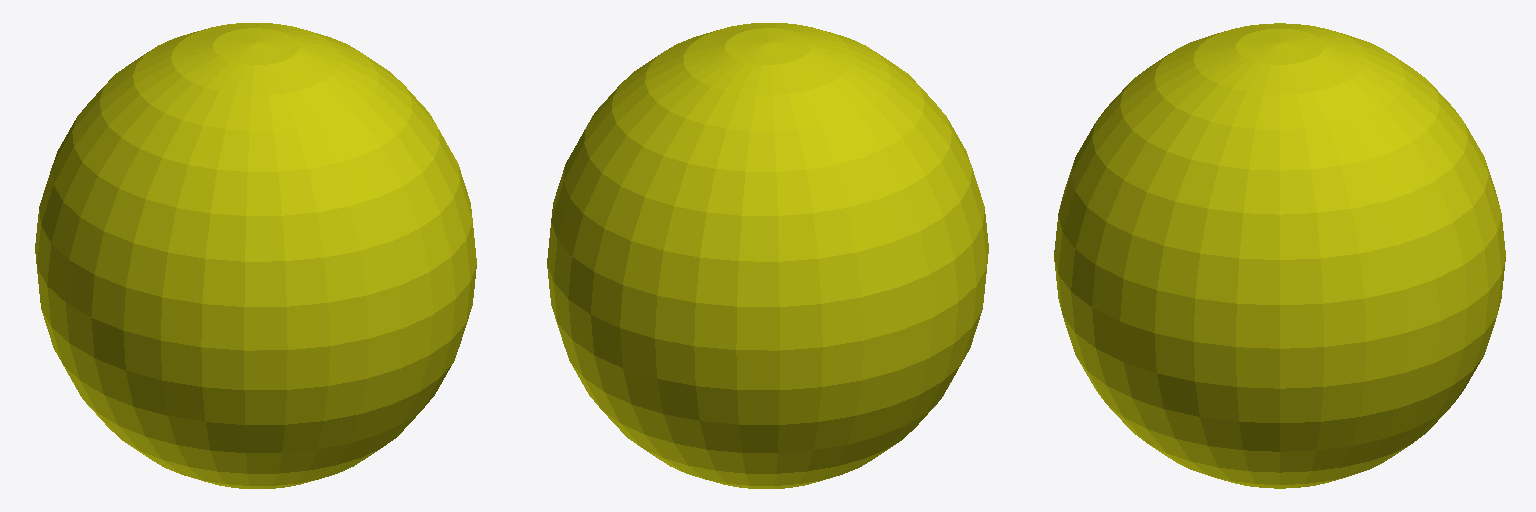
Rendered from moya_fan_y.obj.
The picture shows the model from 3 angles: view 1: azimuth 30°, elevation 25°; view 2: azimuth 150°, elevation 25°; view 3: azimuth 270°, elevation 25°; orthographic projection.
Parts seen in each view (by area): view 1: Sphere_Sphere.000_Sphere_Sphere.004; view 2: Sphere_Sphere.000_Sphere_Sphere.004; view 3: Sphere_Sphere.000_Sphere_Sphere.004.
Boxes of the visible parts, x1=… form: Sphere_Sphere.000_Sphere_Sphere.004: x1=35, y1=23, x2=476, y2=488; Sphere_Sphere.000_Sphere_Sphere.004: x1=547, y1=23, x2=988, y2=488; Sphere_Sphere.000_Sphere_Sphere.004: x1=1054, y1=23, x2=1505, y2=488.
Size of the model in its own units: 0.4594 by 0.4922 by 0.4726.